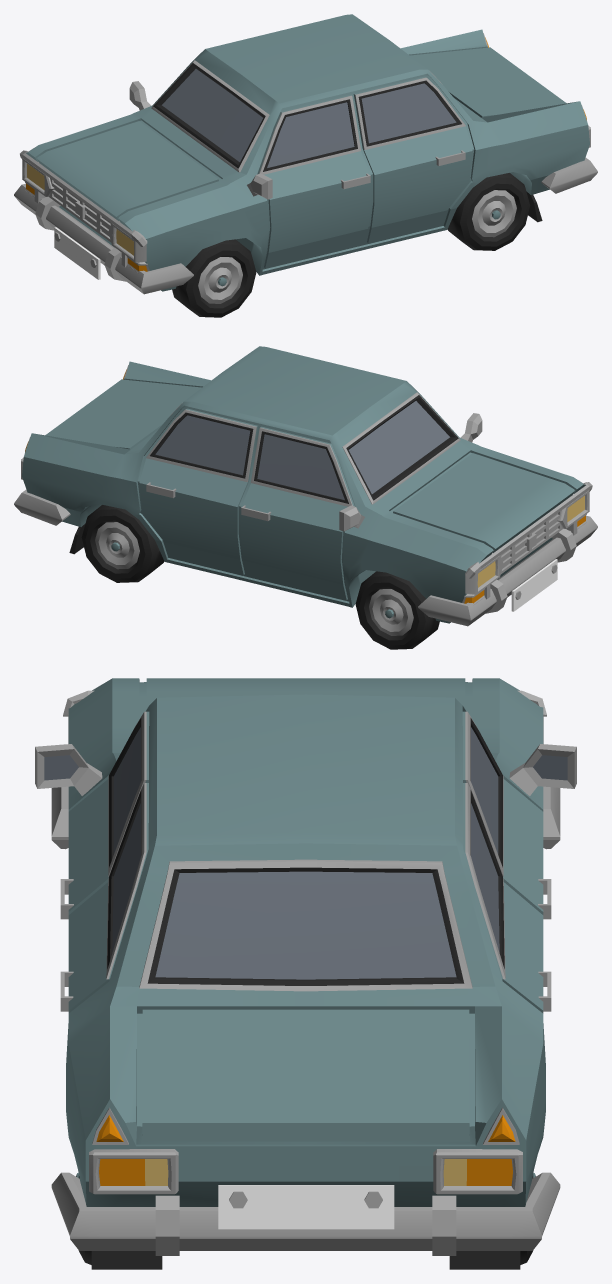
Rendered from Car 1.fbx.
3 renders of one model, top to bottom at view 1: azimuth 30°, elevation 25°; view 2: azimuth 150°, elevation 25°; view 3: azimuth 270°, elevation 25°, orthographic. The views are drawn at different scales.
Parts seen in each view (by area): view 1: Car 1; view 2: Car 1; view 3: Car 1.
Part boxes in pixels (left/top/right/bottom): Car 1: left=14, top=14, right=597, bottom=317; Car 1: left=14, top=346, right=597, bottom=649; Car 1: left=35, top=678, right=576, bottom=1269.
Size of the model in its own units: 637 by 242 by 319.
